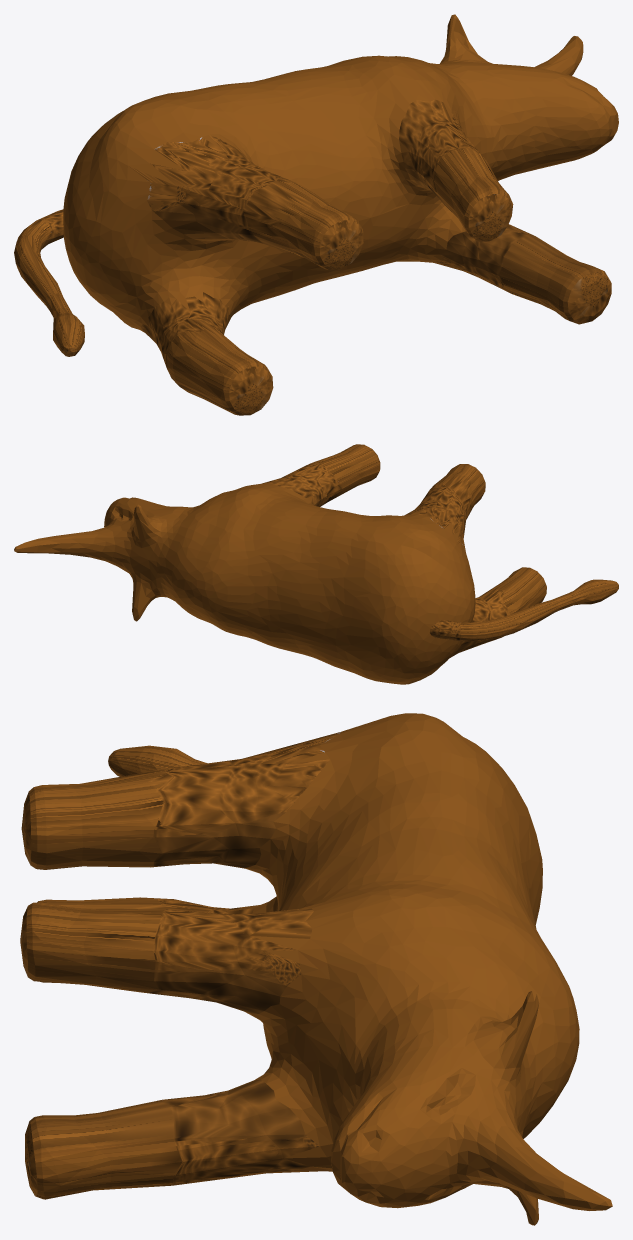
File: rhino.fbx
3 views of the same model, one above another, from view 1: azimuth 30°, elevation 25°; view 2: azimuth 150°, elevation 25°; view 3: azimuth 270°, elevation 25° (orthographic). The views are drawn at different scales.
Visible parts, largest first — view 1: Icosphere; view 2: Icosphere; view 3: Icosphere.
Part boxes in pixels (bbox=[...]): Icosphere: bbox=[14, 14, 618, 415]; Icosphere: bbox=[14, 444, 618, 684]; Icosphere: bbox=[20, 713, 612, 1225].
Bounding box in the file's own units: 602 × 189 × 321.
